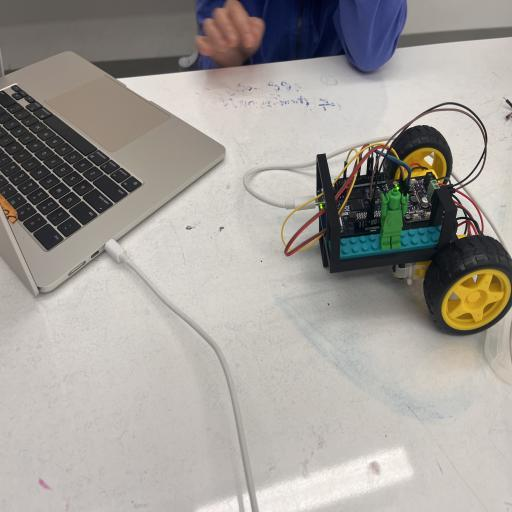Lego-Minifig: (379, 186, 408, 250)
